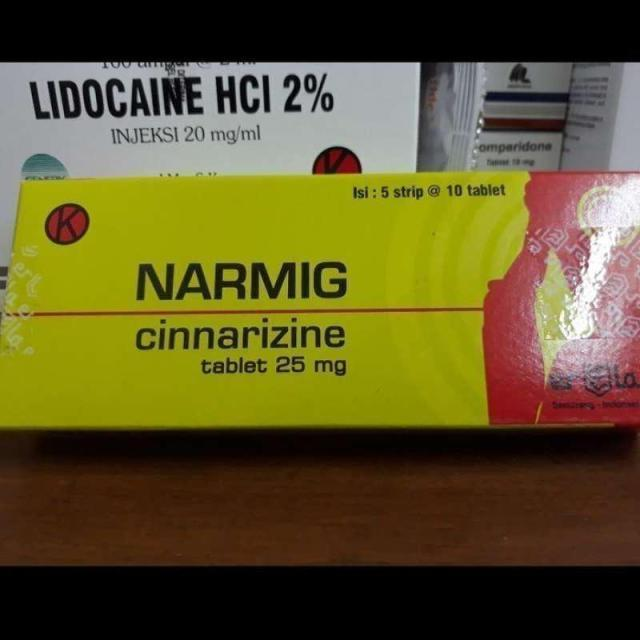drug-name: (134, 260, 356, 300)
